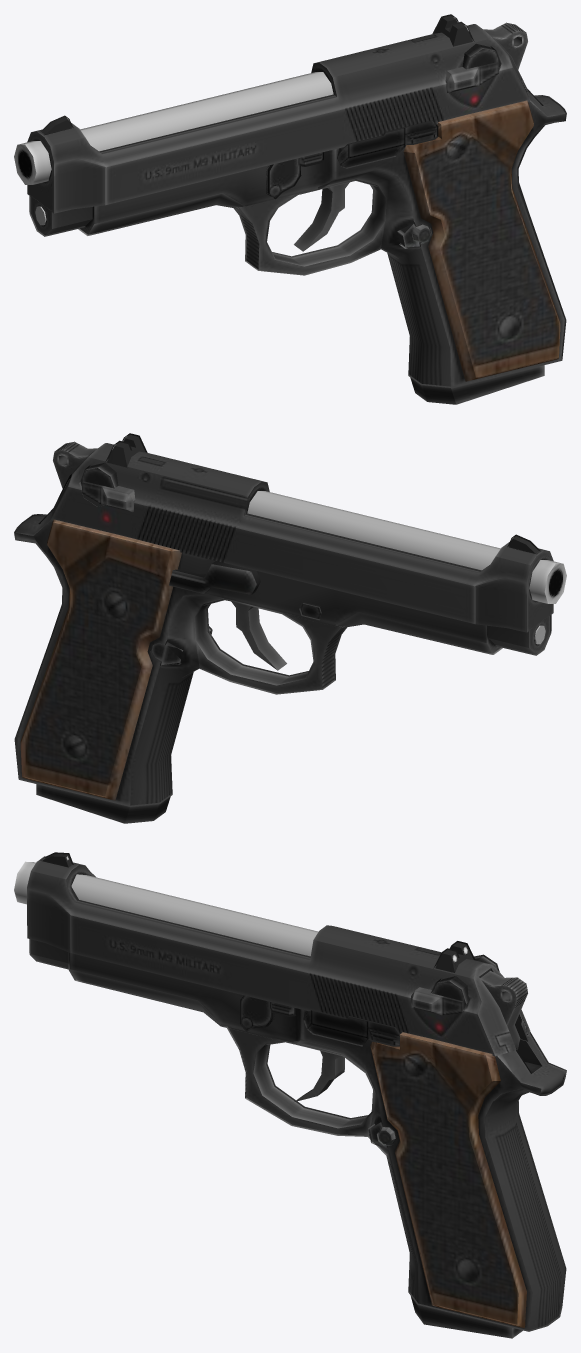
3 views of the same model, one above another, from view 1: azimuth 30°, elevation 25°; view 2: azimuth 150°, elevation 25°; view 3: azimuth 330°, elevation 25° (orthographic).
Visible parts, largest first — view 1: Object_2, Object_3; view 2: Object_2, Object_3; view 3: Object_2, Object_3.
Part boxes in pixels (bbox=[...]): Object_2: bbox=[14, 14, 566, 387]; Object_3: bbox=[30, 15, 565, 404]; Object_2: bbox=[14, 433, 566, 806]; Object_3: bbox=[15, 434, 550, 823]; Object_2: bbox=[14, 852, 566, 1331]; Object_3: bbox=[31, 854, 565, 1338].
Size of the model in its own units: 3.81 by 2.51 by 0.5229.
Materials: 2 (2 with a texture image).
